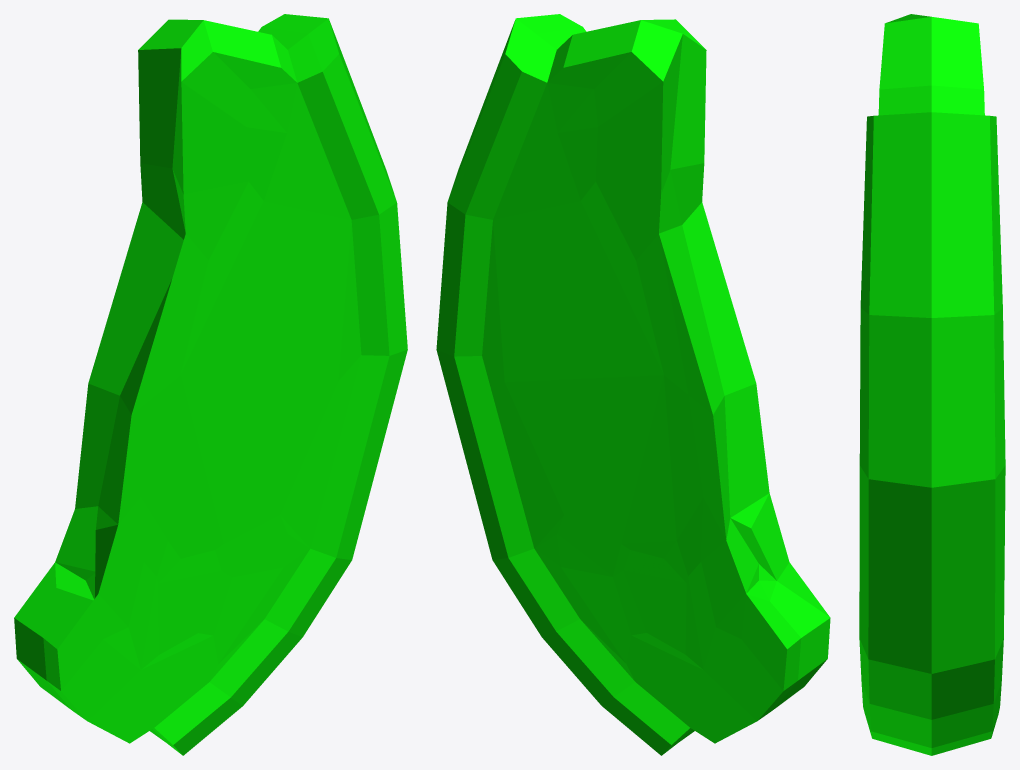
File: SM_Beef_Chunk_Hanging.fbx
The picture shows the model from 3 angles, left to right: view 1: azimuth 30°, elevation 25°; view 2: azimuth 150°, elevation 25°; view 3: azimuth 270°, elevation 25°; orthographic projection. The views are drawn at different scales.
Visible parts, largest first — view 1: beef-chunk-hanging; view 2: beef-chunk-hanging; view 3: beef-chunk-hanging.
Boxes of the visible parts, x1=… form: beef-chunk-hanging: x1=14, y1=14, x2=407, y2=755; beef-chunk-hanging: x1=436, y1=14, x2=830, y2=755; beef-chunk-hanging: x1=859, y1=14, x2=1005, y2=755.
Size of the model in its own units: 0.4051 by 0.7648 by 0.1336.
